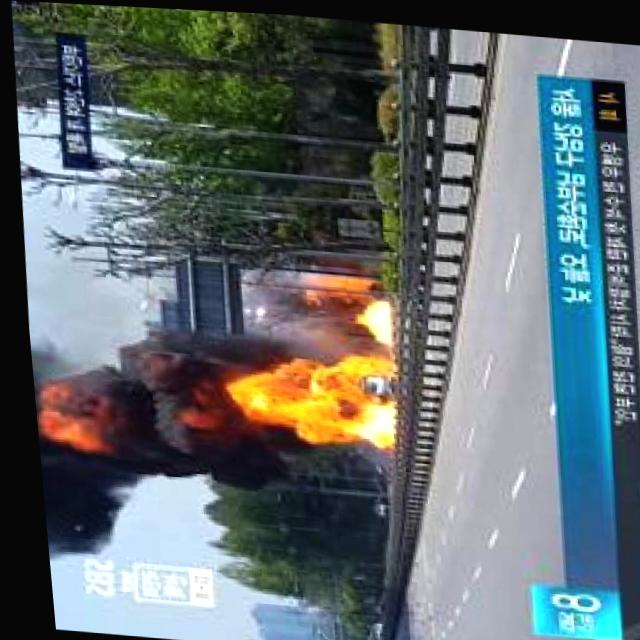Fire: (234, 348, 392, 447), (348, 296, 388, 341), (298, 272, 363, 286)
Smoke: (22, 316, 247, 565)
